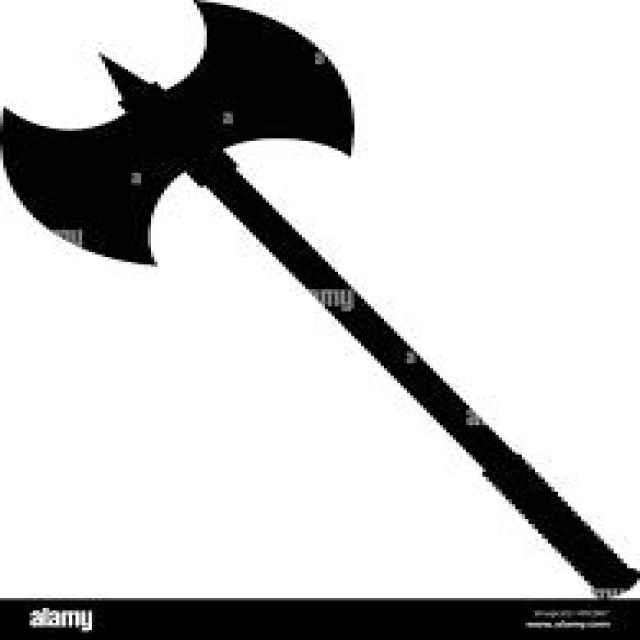Gun: (5, 2, 640, 595)
